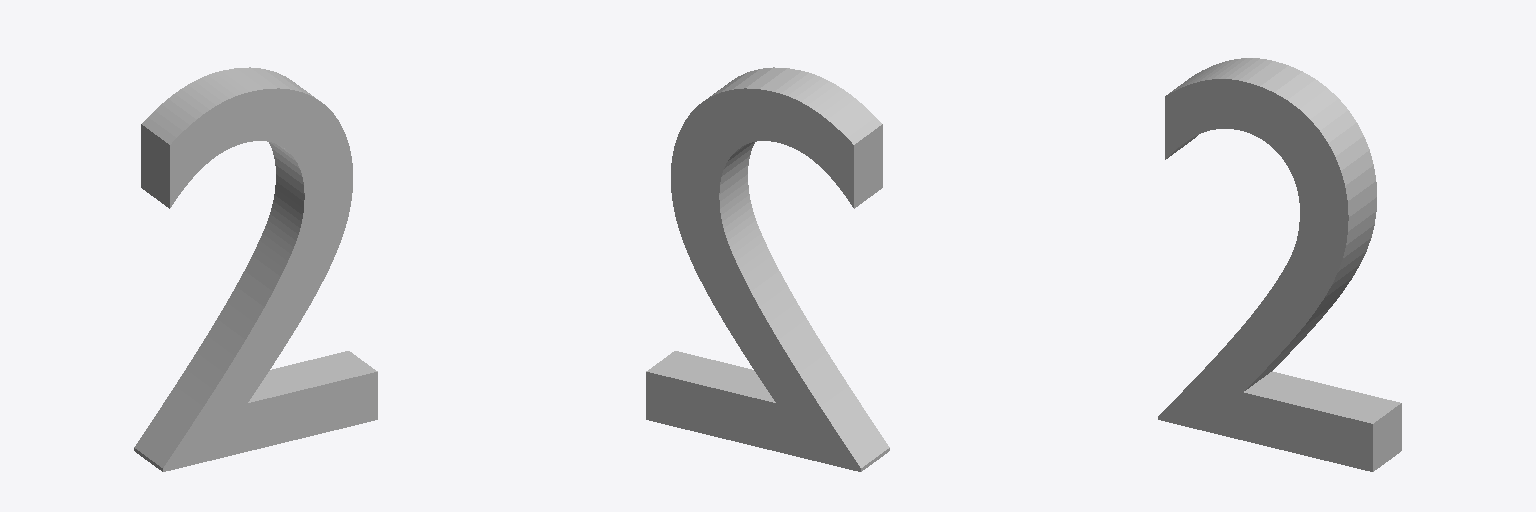
3 renders of one model, left to right at view 1: azimuth 30°, elevation 25°; view 2: azimuth 150°, elevation 25°; view 3: azimuth 330°, elevation 25°, orthographic.
Parts seen in each view (by area): view 1: Text.001_CUText.001; view 2: Text.001_CUText.001; view 3: Text.001_CUText.001.
Part boxes in pixels (x1,y1,x2,y2): Text.001_CUText.001: (134,67,377,471); Text.001_CUText.001: (646,67,889,471); Text.001_CUText.001: (1158,58,1401,471).
Bounding box in the file's own units: 0.432 × 0.691 × 0.1.